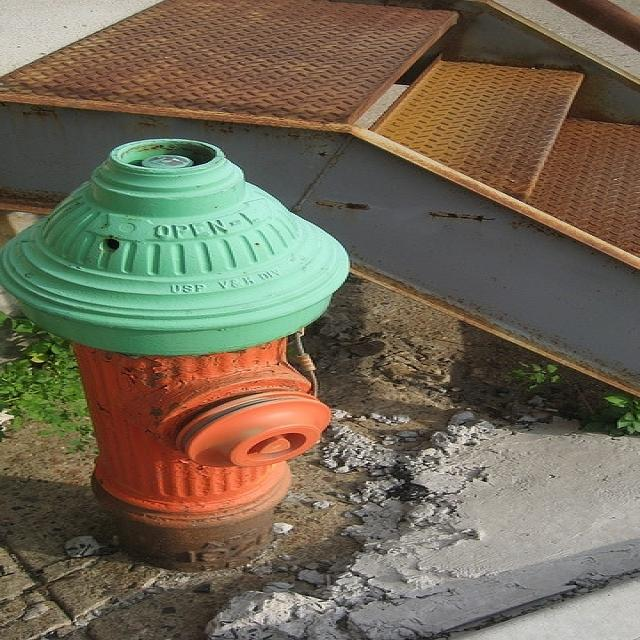fire_hydrant: (0, 81, 566, 639)
